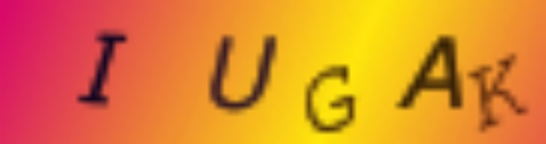A: (393, 30, 464, 113)
G: (302, 59, 359, 136)
I: (74, 29, 130, 110)
K: (465, 49, 530, 135)
U: (205, 30, 281, 115)
